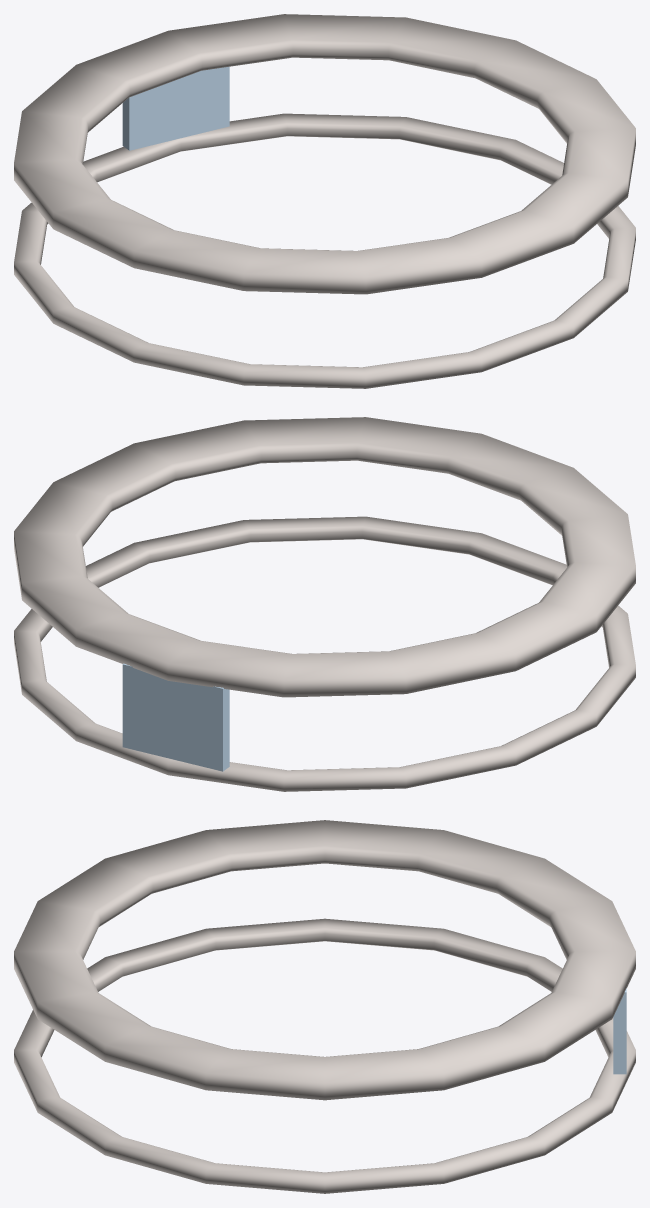
The model's file is Wall.fbx.
3 renders of one model, top to bottom at view 1: azimuth 30°, elevation 25°; view 2: azimuth 150°, elevation 25°; view 3: azimuth 270°, elevation 25°, orthographic.
Visible parts, largest first — view 1: WallTop, WallBase, Wall01; view 2: WallTop, WallBase, Wall01; view 3: WallTop, WallBase, Wall01.
Boxes of the visible parts, <box> form: WallTop: <box>14,14,635,294</box>; WallBase: <box>14,113,635,388</box>; Wall01: <box>122,66,229,150</box>; WallTop: <box>14,417,635,697</box>; WallBase: <box>14,516,635,791</box>; Wall01: <box>122,663,229,771</box>; WallTop: <box>14,820,635,1100</box>; WallBase: <box>14,918,635,1193</box>; Wall01: <box>613,988,626,1074</box>.
Size of the model in its own units: 13.72 by 2.7 by 13.72.
